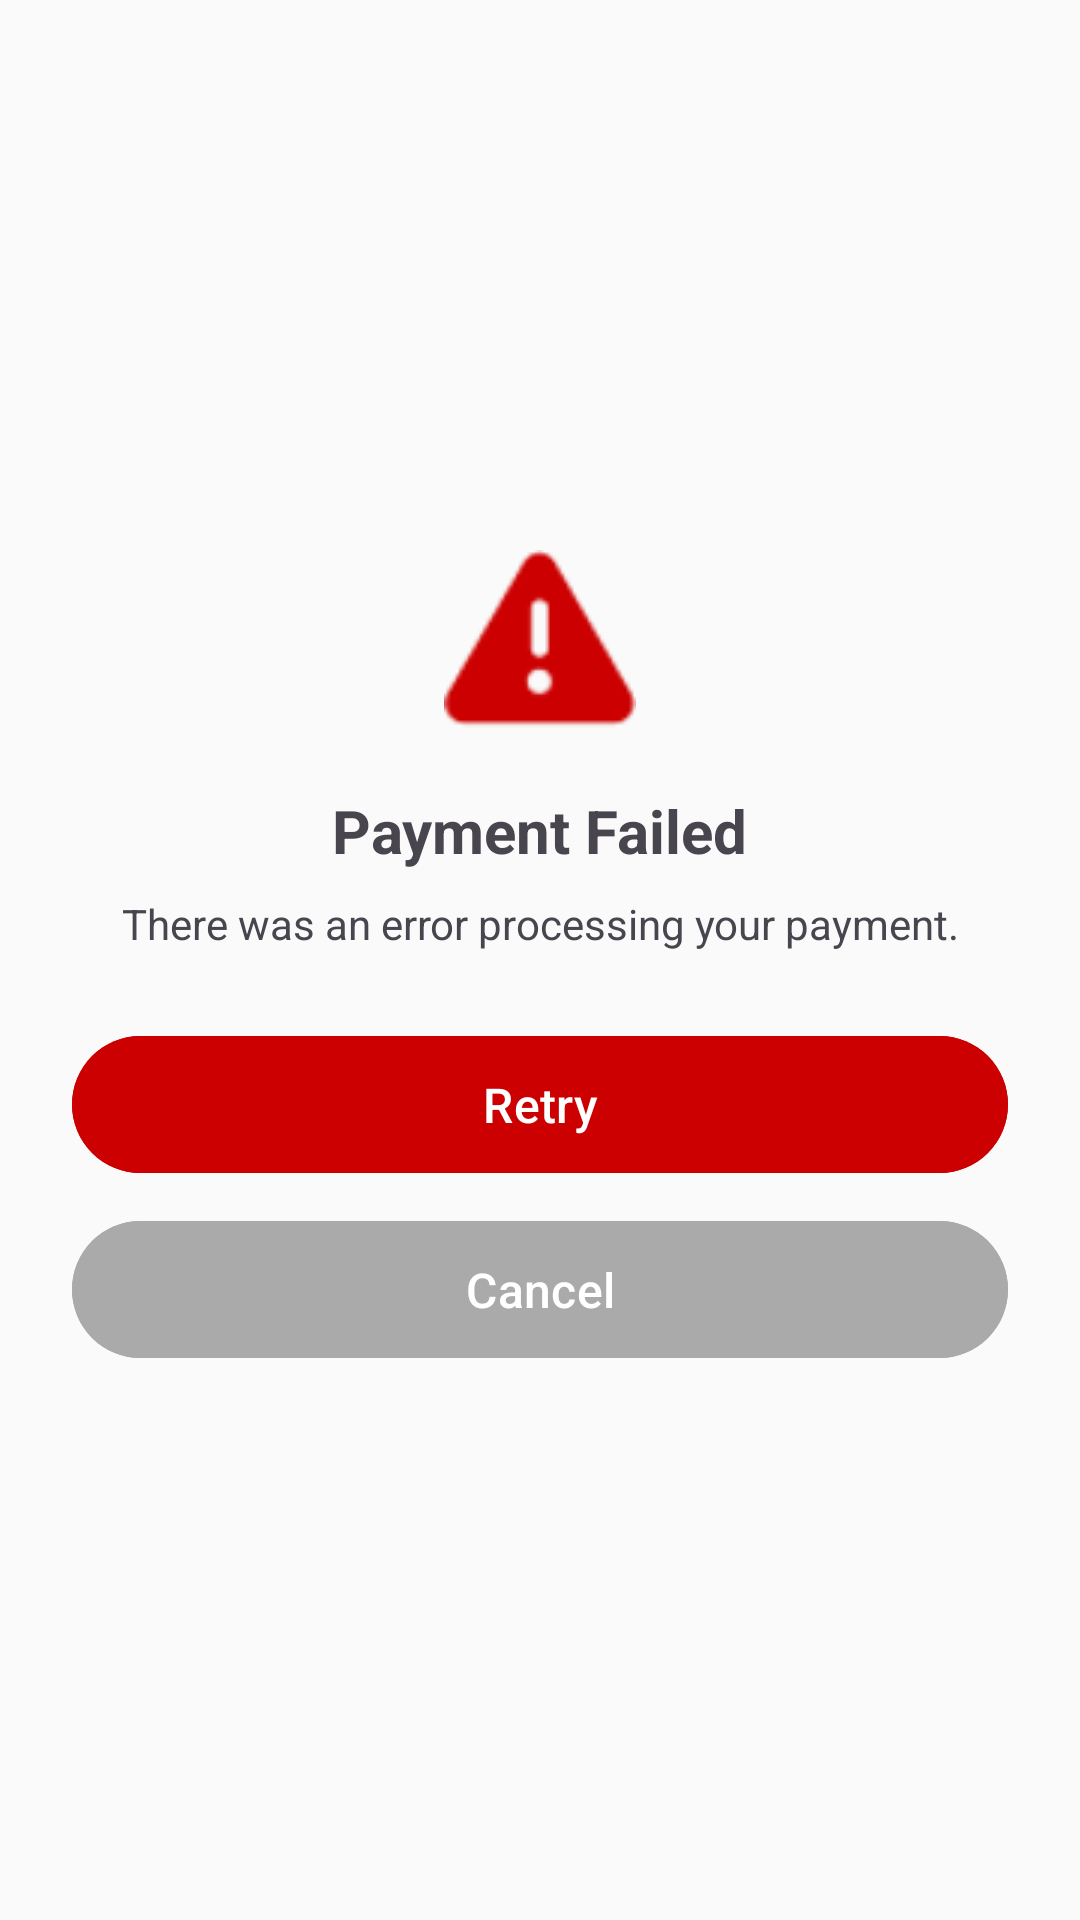

Screen size 1080×1920. Icon name, then its center in pixels as (x=x, y=y):
alert: (x=540, y=637)
